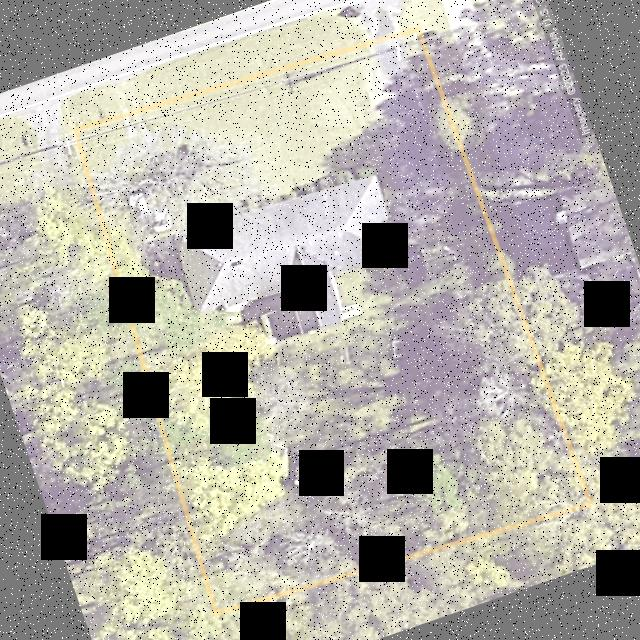Driveway: (364, 37, 457, 302)
Extra Driveway: (350, 0, 399, 38)
Extra Lawn: (65, 5, 368, 123), (398, 0, 418, 29)
House: (173, 174, 401, 333)
